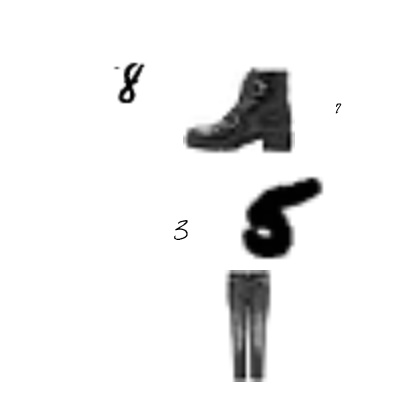3: (168, 215, 196, 243)
5: (218, 158, 330, 270)
7: (331, 100, 345, 114)
8: (100, 53, 156, 109)
Ankle_boot: (183, 52, 295, 164)
Trouser: (190, 270, 302, 382)
